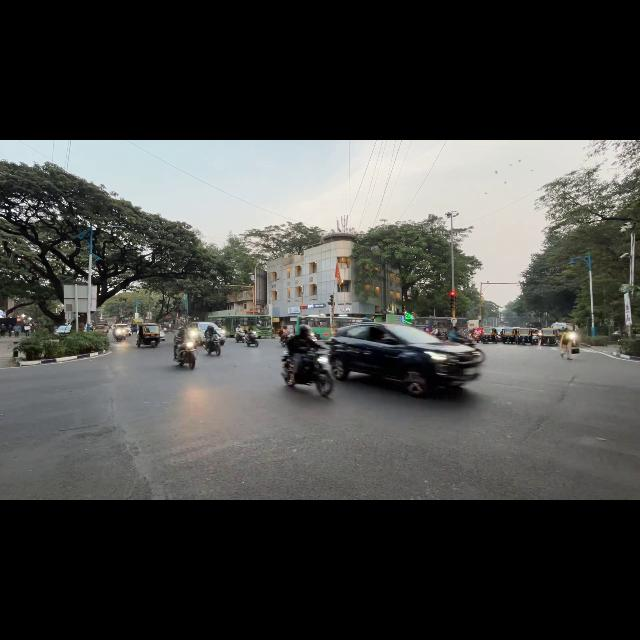bus: (208, 315, 273, 337), (295, 316, 331, 338), (412, 317, 452, 329)
car: (328, 323, 482, 395), (188, 322, 225, 345), (54, 324, 72, 338), (112, 324, 131, 336), (93, 325, 108, 333), (160, 331, 166, 342)
motorcycle: (282, 351, 334, 396), (445, 338, 485, 362), (176, 340, 197, 369), (204, 334, 220, 355), (244, 331, 258, 346), (280, 334, 293, 347), (114, 329, 126, 341), (235, 331, 245, 342), (471, 334, 480, 342)
